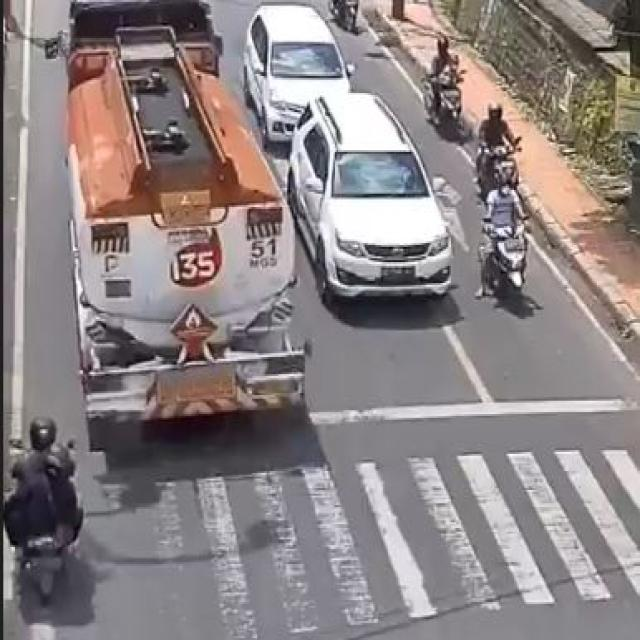car: (291, 85, 469, 318), (240, 5, 353, 157), (547, 150, 553, 152)
motorbike: (9, 396, 79, 619), (472, 174, 534, 308), (418, 34, 473, 132), (478, 98, 532, 184)
truck: (44, 0, 311, 464)
